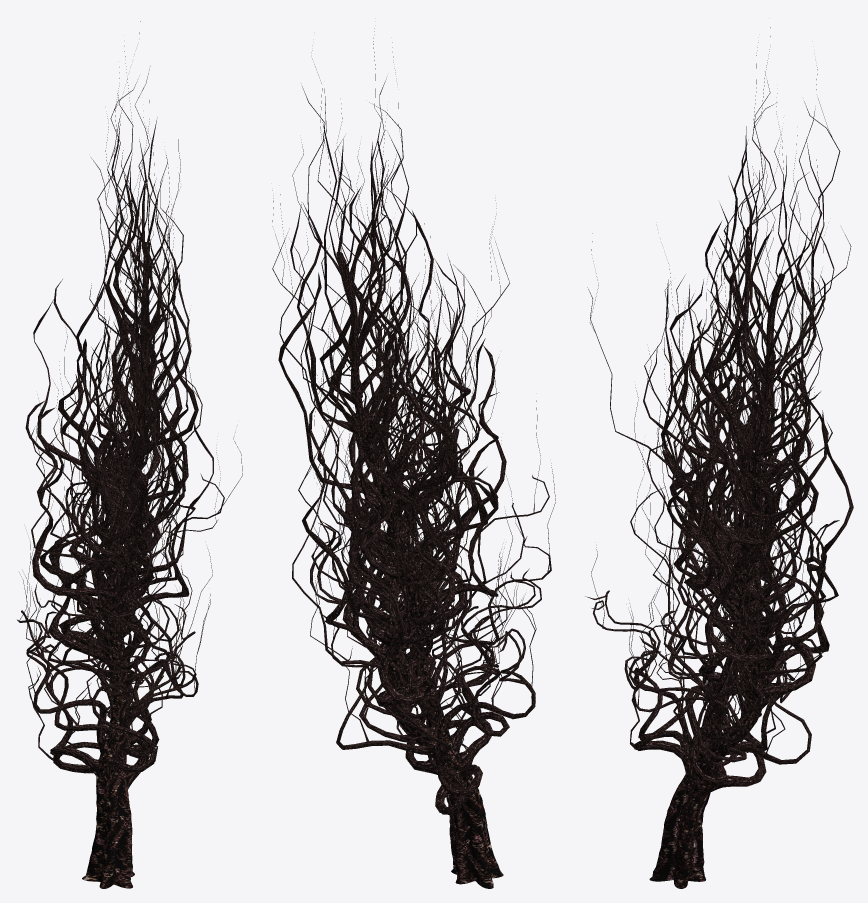
Rendered from tree8.fbx.
3 renders of one model, left to right at view 1: azimuth 30°, elevation 25°; view 2: azimuth 150°, elevation 25°; view 3: azimuth 270°, elevation 25°, orthographic. The views are drawn at different scales.
Parts seen in each view (by area): view 1: bark13_0; view 2: bark13_0; view 3: bark13_0.
Part boxes in pixels (<box>): bark13_0: <box>17,21,242,888</box>; bark13_0: <box>272,28,555,888</box>; bark13_0: <box>585,27,853,888</box>.
Size of the model in its own units: 570 by 2217 by 609.
Materials: 1 (1 with a texture image).
